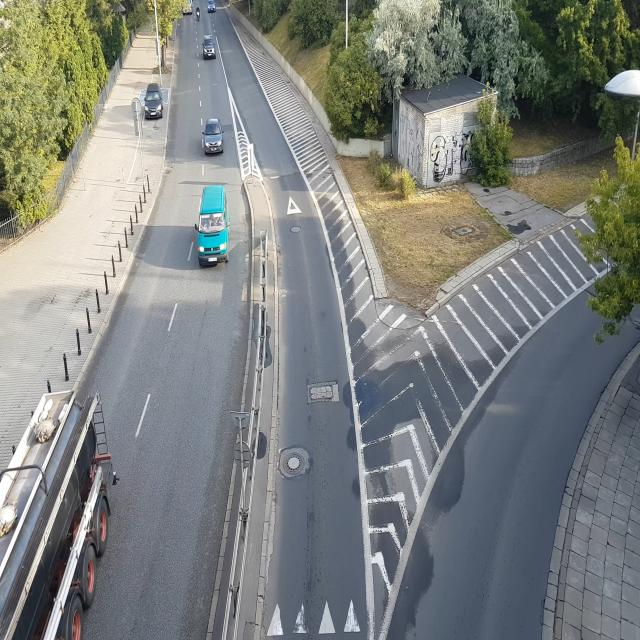car: (197, 182, 230, 264), (202, 116, 224, 156), (144, 86, 165, 119), (202, 37, 216, 59), (206, 2, 215, 14)
motorcycle: (195, 6, 204, 23)
truck: (0, 383, 118, 640), (182, 0, 195, 18)
